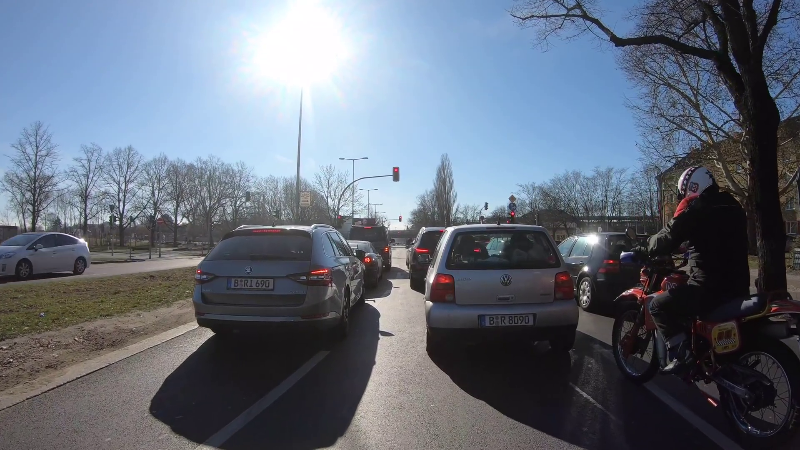Plate: (224, 275, 277, 292), (476, 313, 537, 327)
